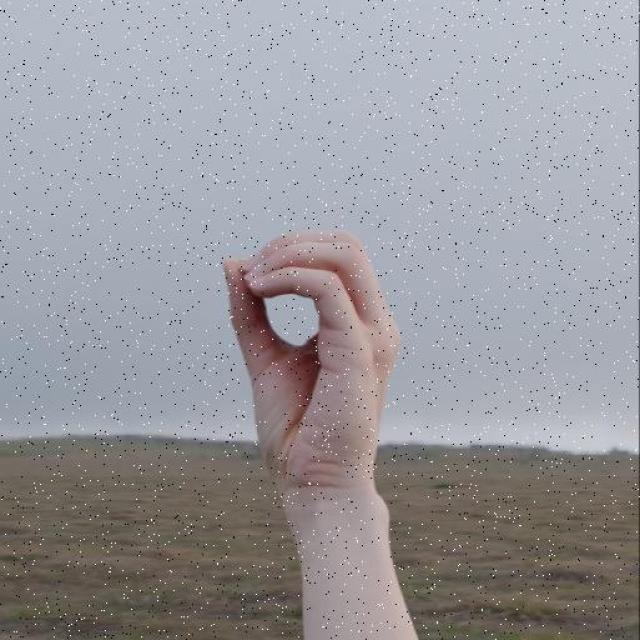O: (221, 223, 405, 516)
